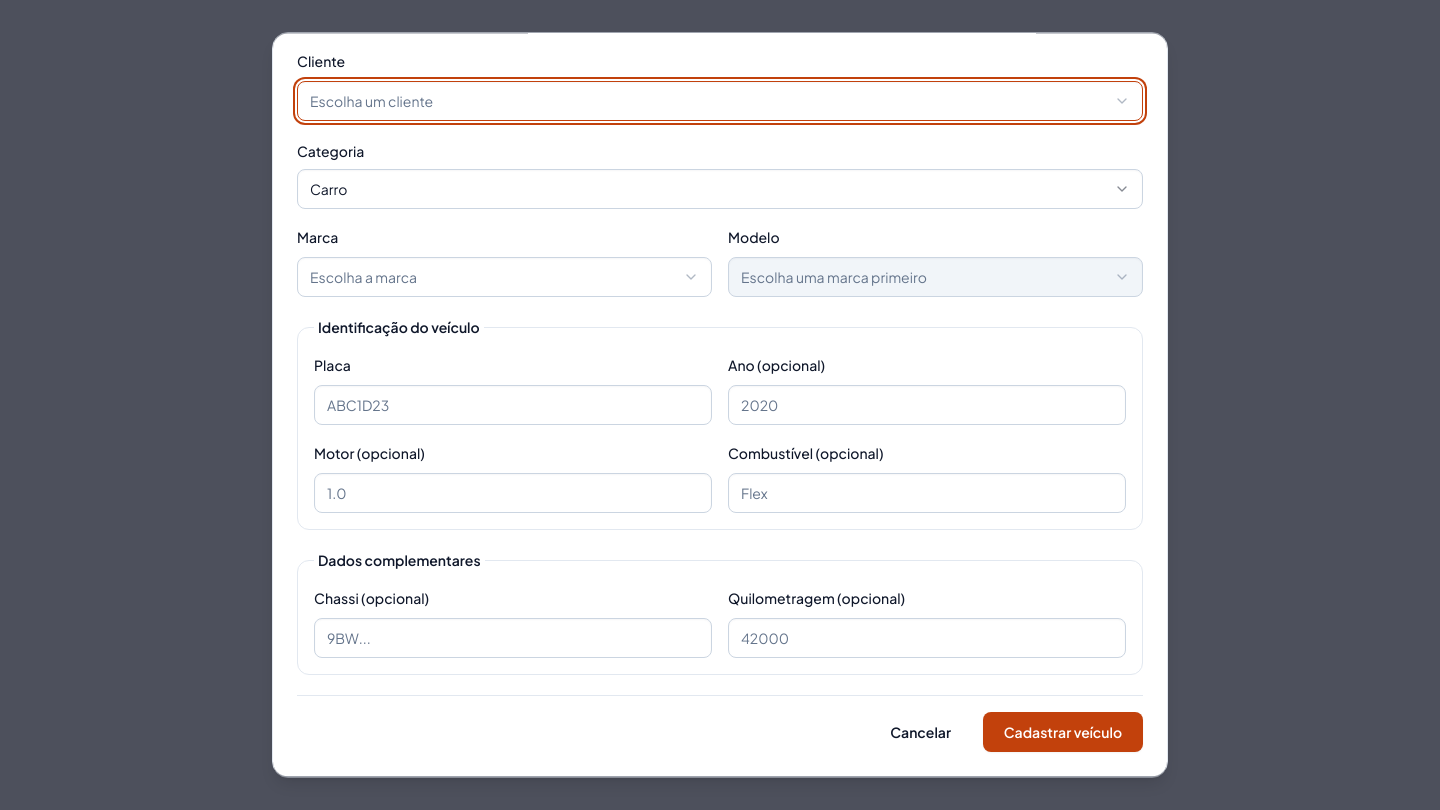
VehicleFormModal › shows validation errors when submitted empty in create mode
This screenshot has width=1440, height=810.
(page scrolled)
Click the button "Cadastrar veículo" at (1063, 732), box [983,712,1143,752]
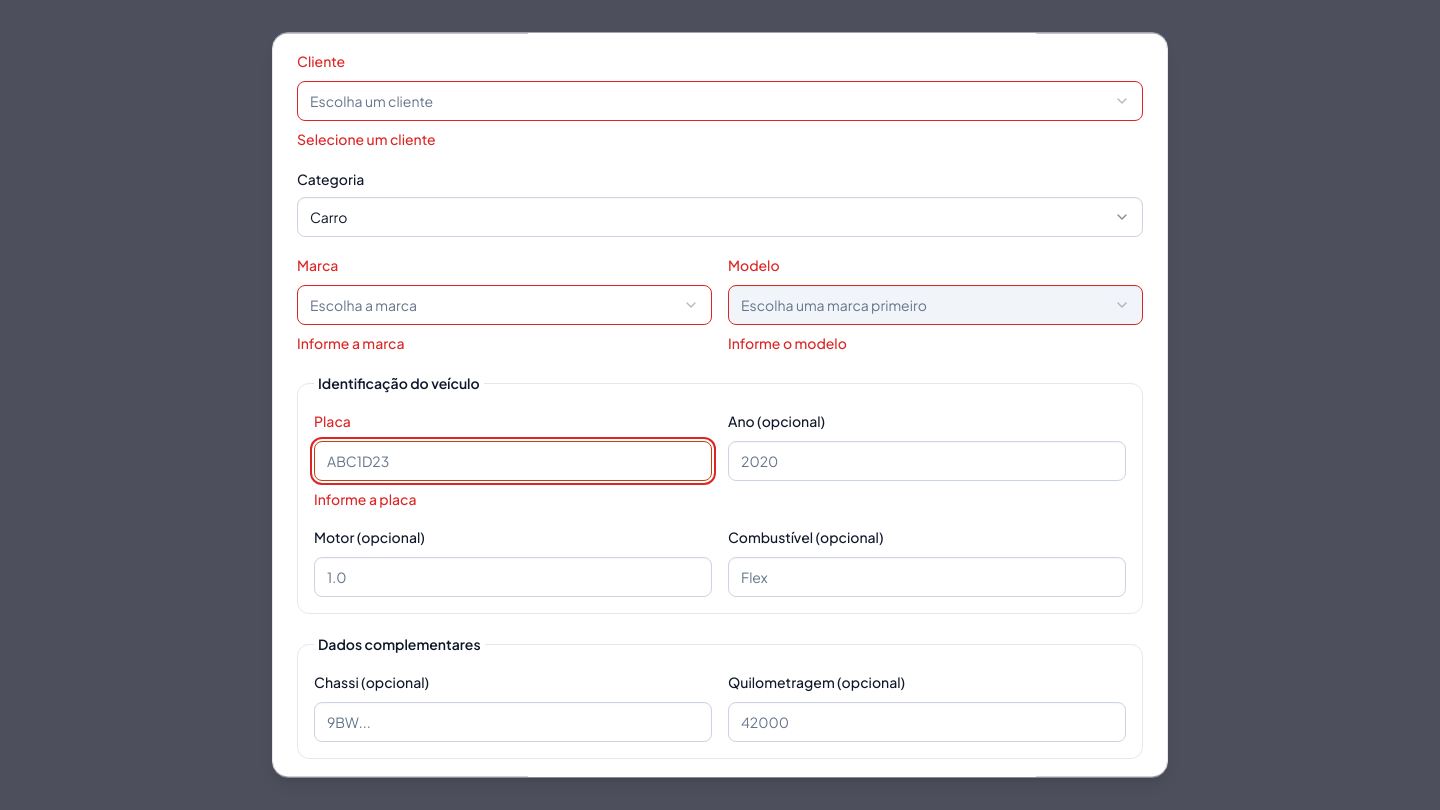
expect the text "Selecione um cliente" is shown: met, box [297,130,436,148]
